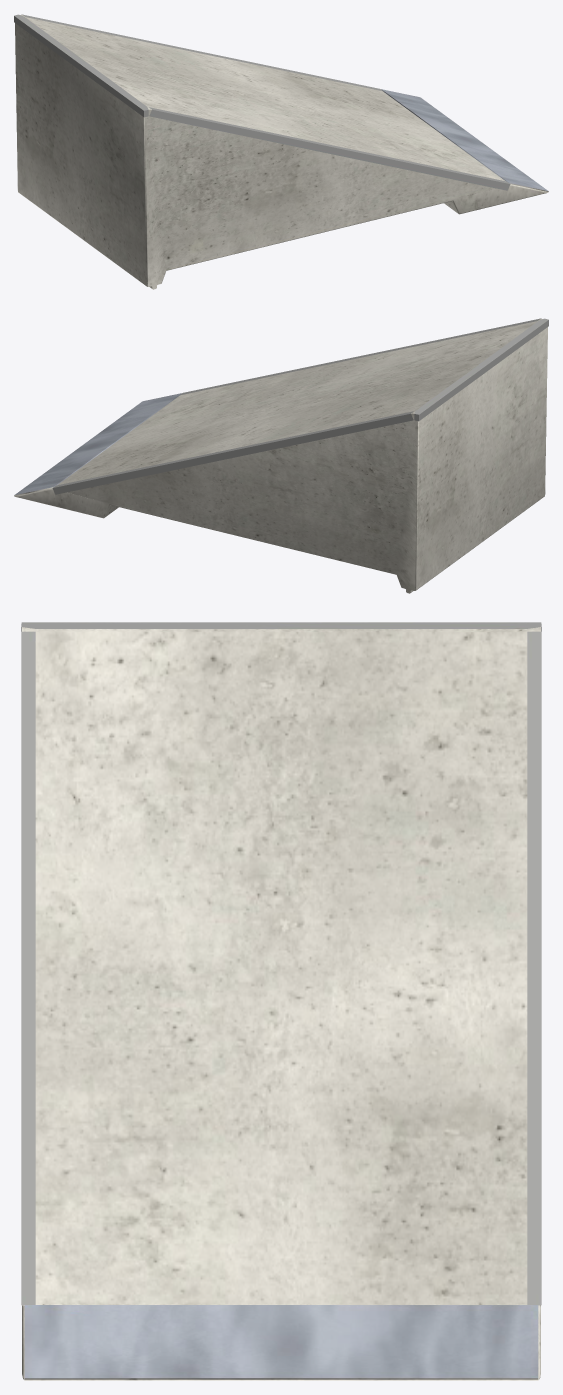
The model's file is bank-98.gltf.
3 views of the same model, one above another, from view 1: azimuth 30°, elevation 25°; view 2: azimuth 150°, elevation 25°; view 3: azimuth 270°, elevation 25° (orthographic). The views are drawn at different scales.
Visible parts, largest first — view 1: SK0128_Bank_-98.001; view 2: SK0128_Bank_-98.001; view 3: SK0128_Bank_-98.001.
Boxes of the visible parts, left/top/right/bottom form: SK0128_Bank_-98.001: left=14, top=14, right=548, bottom=289; SK0128_Bank_-98.001: left=14, top=318, right=548, bottom=593; SK0128_Bank_-98.001: left=21, top=622, right=541, bottom=1380.
Size of the model in its own units: 2.25 by 0.96 by 1.25.
3 materials, 3 textured.
